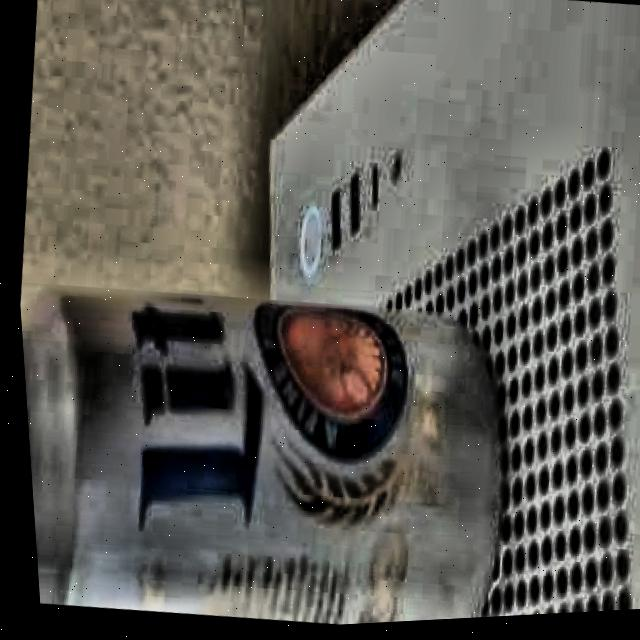metal: (12, 210, 560, 640)
